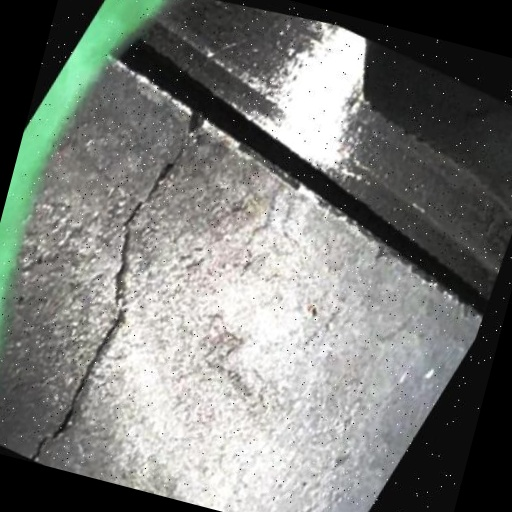crack: (0, 156, 324, 512), (0, 144, 336, 475)
